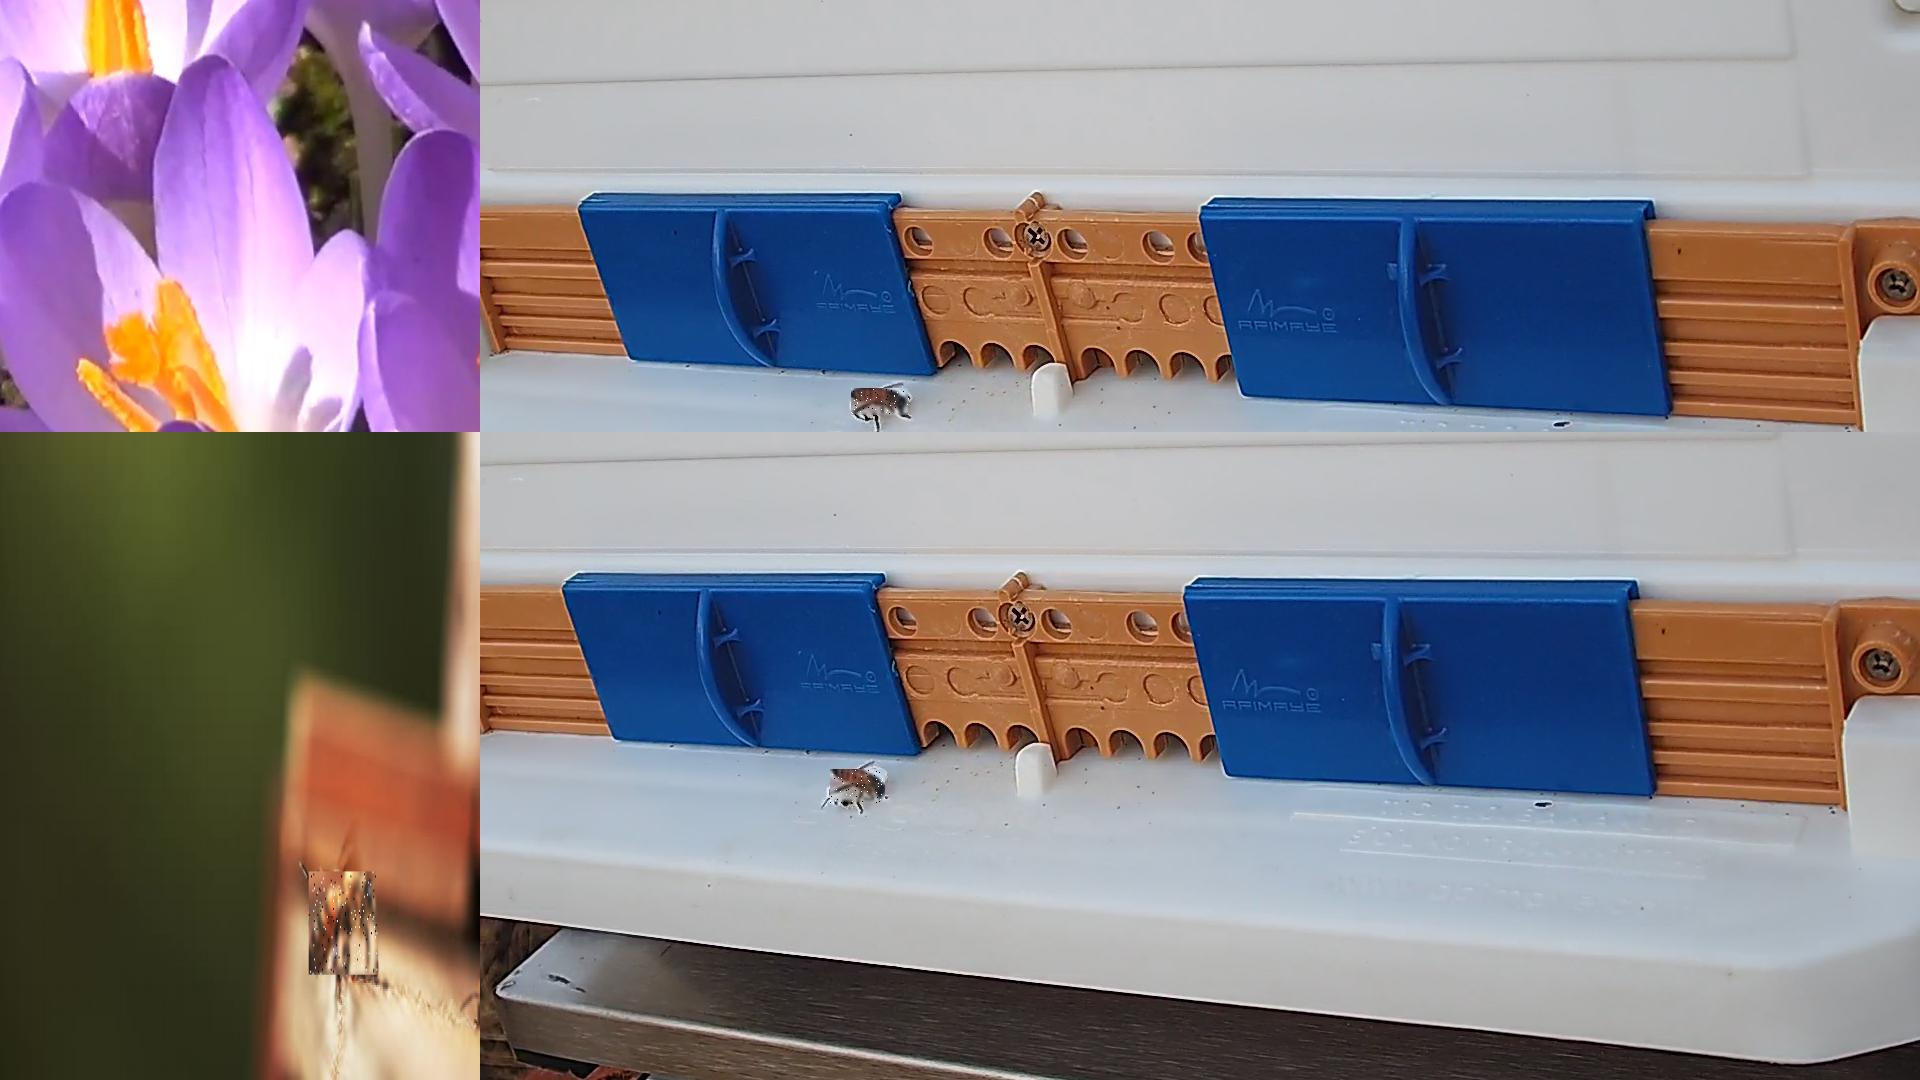bee: (310, 872, 378, 977), (831, 770, 886, 804), (852, 389, 911, 418)
